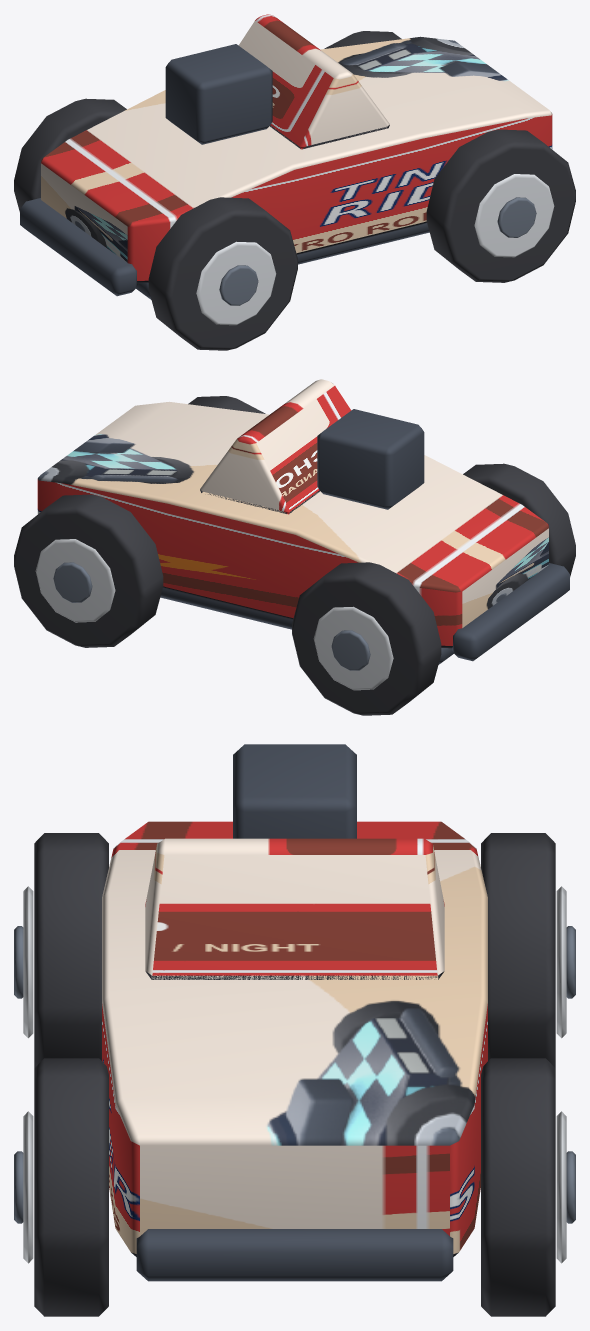
The picture shows the model from 3 angles, top to bottom: view 1: azimuth 30°, elevation 25°; view 2: azimuth 150°, elevation 25°; view 3: azimuth 270°, elevation 25°; orthographic projection. The views are drawn at different scales.
Parts seen in each view (by area): view 1: RR-04_connected_shell, Tire, Tire.002, RR-04_cabin, engine scoop, front bumper, Tire.001, Rim, Rim.002, underbody, Hub, Hub.002 (+1 smaller); view 2: RR-04_connected_shell, Tire.001, Tire.003, RR-04_cabin, engine scoop, front bumper, Tire, Rim.001, Rim.003, underbody, Hub.001, Hub.003 (+1 smaller); view 3: RR-04_connected_shell, RR-04_cabin, Tire.002, Tire.003, rear bumper, Tire, Tire.001, engine scoop, Rim, Rim.001, Rim.002, Rim.003 (+4 smaller).
Boxes of the visible parts, <box> form: RR-04_connected_shell: <box>41,36,552,283</box>; Tire: <box>148,197,297,350</box>; Tire.002: <box>426,129,575,282</box>; RR-04_cabin: <box>238,14,389,149</box>; engine scoop: <box>165,44,272,144</box>; front bumper: <box>20,198,137,296</box>; Tire.001: <box>14,98,126,211</box>; Rim: <box>196,241,276,325</box>; Rim.002: <box>474,174,554,257</box>; underbody: <box>136,223,429,299</box>; Hub: <box>219,265,258,305</box>; Hub.002: <box>497,197,536,237</box>; RR-04_connected_shell: <box>37,401,548,648</box>; Tire.001: <box>292,562,441,715</box>; Tire.003: <box>14,494,163,647</box>; RR-04_cabin: <box>200,379,351,514</box>; engine scoop: <box>317,409,424,509</box>; front bumper: <box>452,563,569,661</box>; Tire: <box>463,463,575,576</box>; Rim.001: <box>313,606,393,690</box>; Rim.003: <box>35,539,115,622</box>; underbody: <box>160,588,453,664</box>; Hub.001: <box>331,630,370,670</box>; Hub.003: <box>53,562,92,602</box>; RR-04_connected_shell: <box>102,821,487,1256</box>; RR-04_cabin: <box>145,838,444,979</box>; Tire.002: <box>34,1058,108,1316</box>; Tire.003: <box>481,1058,555,1316</box>; rear bumper: <box>136,1229,453,1281</box>; Tire: <box>34,833,108,1067</box>; Tire.001: <box>481,833,555,1067</box>; engine scoop: <box>233,744,356,838</box>; Rim: <box>23,886,33,1038</box>; Rim.001: <box>556,886,566,1038</box>; Rim.002: <box>23,1111,33,1263</box>; Rim.003: <box>556,1111,566,1263</box>.
Bounding box in the file's own units: 303 × 137 × 195.
